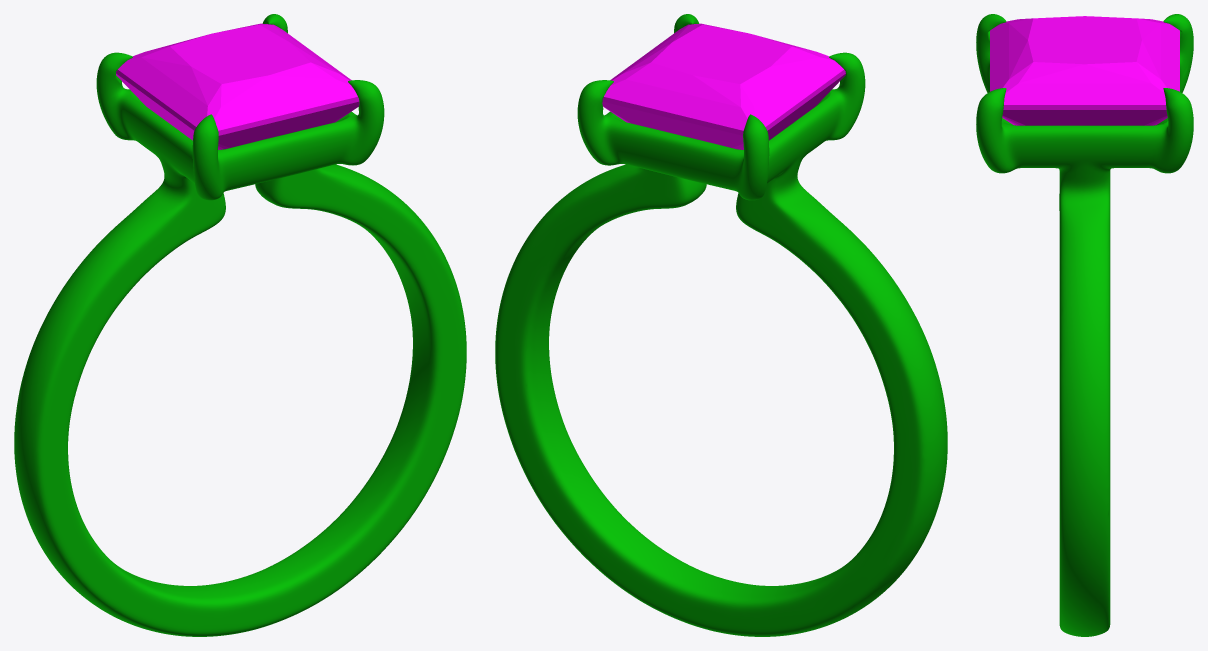
File: BE1742_PR_200ct_RENDER.glb
The picture shows the model from 3 angles, left to right: view 1: azimuth 30°, elevation 25°; view 2: azimuth 150°, elevation 25°; view 3: azimuth 270°, elevation 25°; orthographic projection.
Visible parts, largest first — view 1: Metal 01, CS_Diamond_Princess; view 2: Metal 01, CS_Diamond_Princess; view 3: Metal 01, CS_Diamond_Princess.
Part boxes in pixels (bbox=[...]): Metal 01: bbox=[14, 14, 466, 636]; CS_Diamond_Princess: bbox=[116, 23, 359, 149]; Metal 01: bbox=[495, 14, 947, 636]; CS_Diamond_Princess: bbox=[602, 23, 845, 149]; Metal 01: bbox=[976, 14, 1193, 636]; CS_Diamond_Princess: bbox=[990, 16, 1179, 125].
Bounding box in the file's own units: 20.09 × 24.95 × 8.59.
